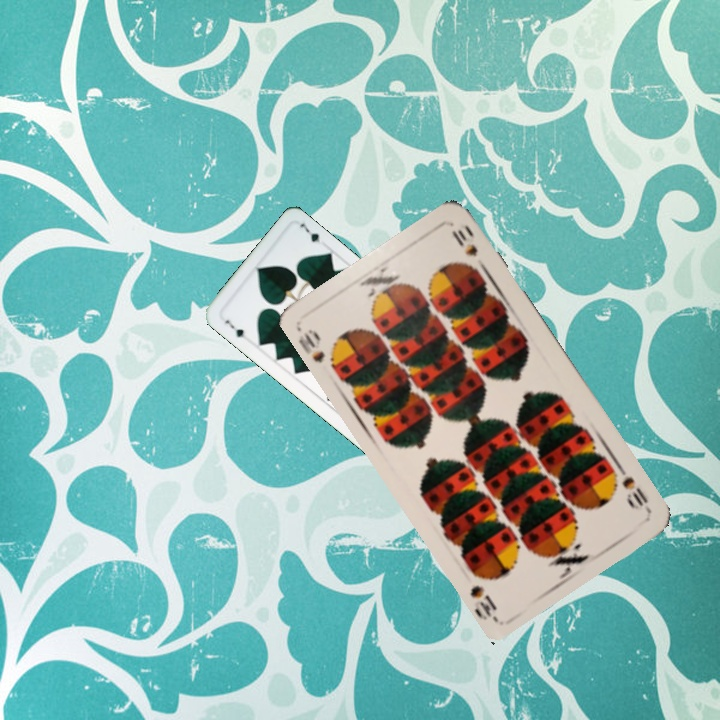G7: (221, 315, 247, 340)
S10: (294, 325, 342, 373), (618, 472, 651, 509)
